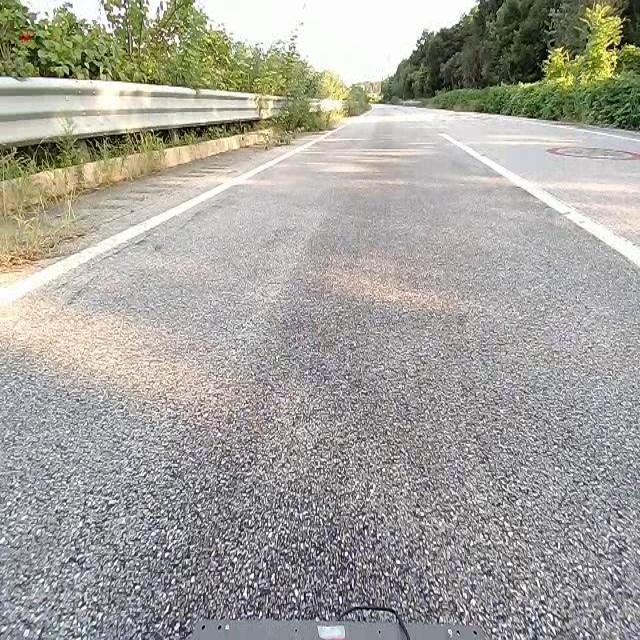Lane: (0, 118, 348, 305), (0, 126, 343, 306), (433, 117, 640, 277), (441, 133, 639, 268)
